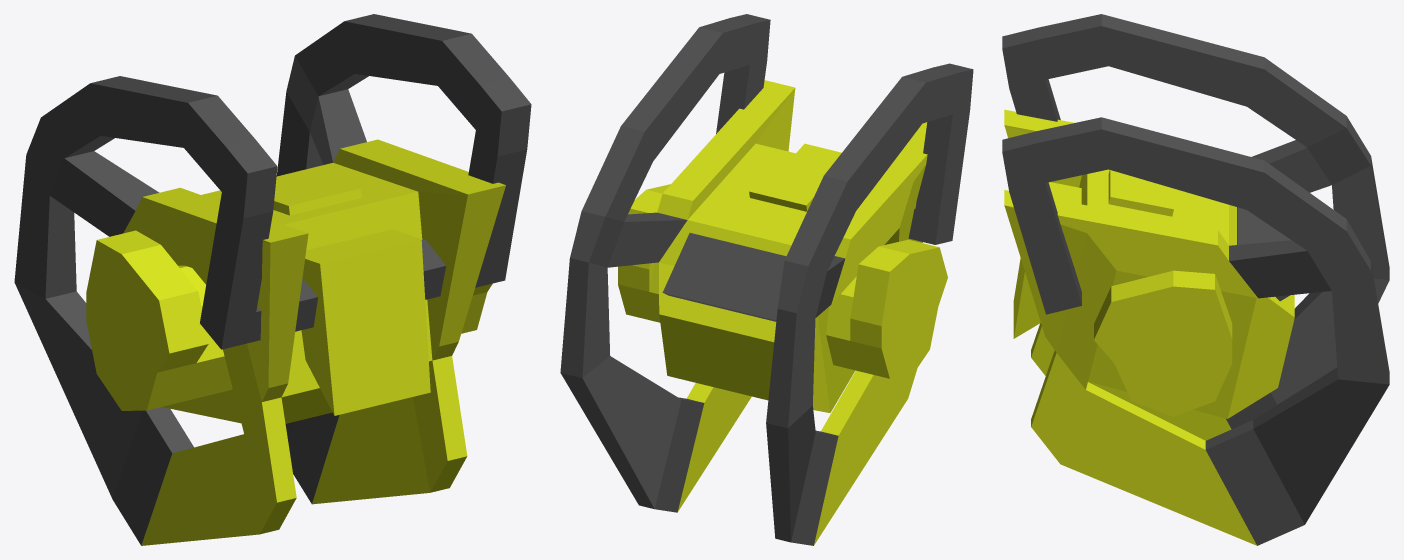
Rendered from EngineerCore.glb.
The picture shows the model from 3 angles, left to right: view 1: azimuth 30°, elevation 25°; view 2: azimuth 150°, elevation 25°; view 3: azimuth 270°, elevation 25°; orthographic projection. The views are drawn at different scales.
Parts seen in each view (by area): view 1: Body.002; view 2: Body.002; view 3: Body.002.
Part boxes in pixels (x1=…): Body.002: x1=14, y1=14, x2=531, y2=545; Body.002: x1=560, y1=14, x2=973, y2=545; Body.002: x1=1002, y1=14, x2=1389, y2=545.
Size of the model in its own units: 0.8539 by 1.29 by 1.04.
